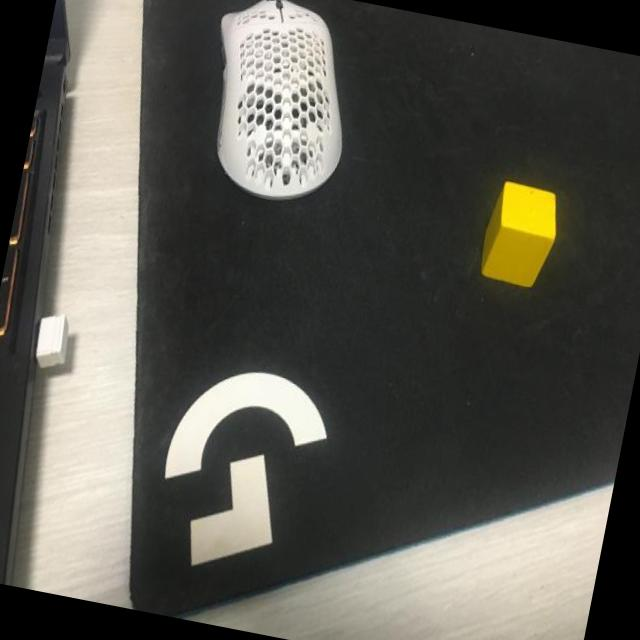yellow: (478, 181, 565, 291)
